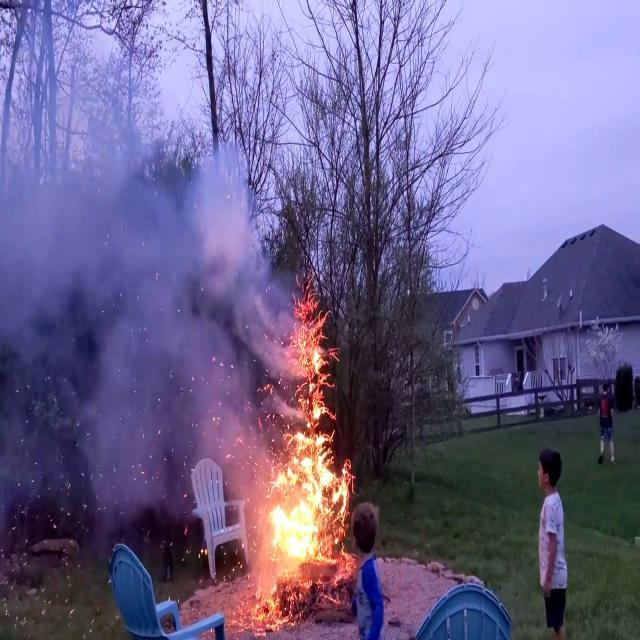Fire: (262, 294, 354, 580)
Smoke: (0, 16, 294, 534)
